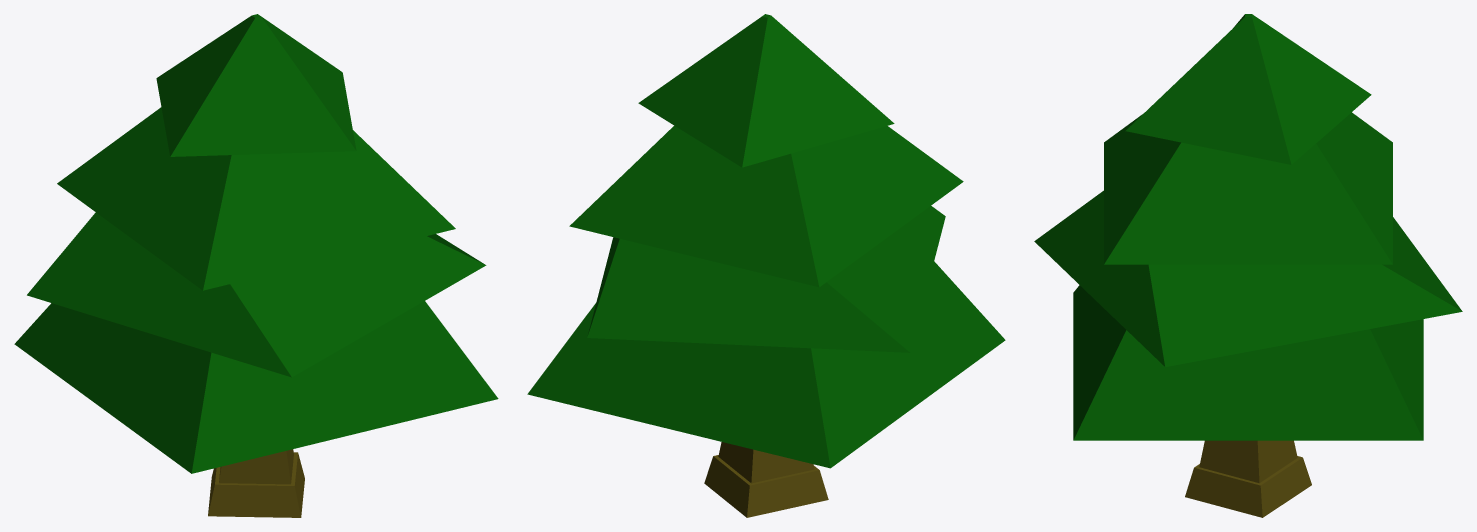
Rendered from Kuusi_mod.fbx.
3 views of the same model, side by side, from view 1: azimuth 30°, elevation 25°; view 2: azimuth 150°, elevation 25°; view 3: azimuth 270°, elevation 25° (orthographic).
Visible parts, largest first — view 1: Kuusi; view 2: Kuusi; view 3: Kuusi.
Boxes of the visible parts, <box> form: Kuusi: <box>14,14,498,517</box>; Kuusi: <box>527,14,1005,517</box>; Kuusi: <box>1034,14,1462,517</box>.
Size of the model in its own units: 279 by 341 by 279.
